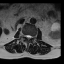CCS_normal: (27, 32, 29, 42)
LFS_normal: (31, 33, 33, 40)
LLS_normal: (29, 33, 31, 40)
RFS_normal: (23, 32, 25, 39)
RLS_normal: (25, 32, 27, 40)
